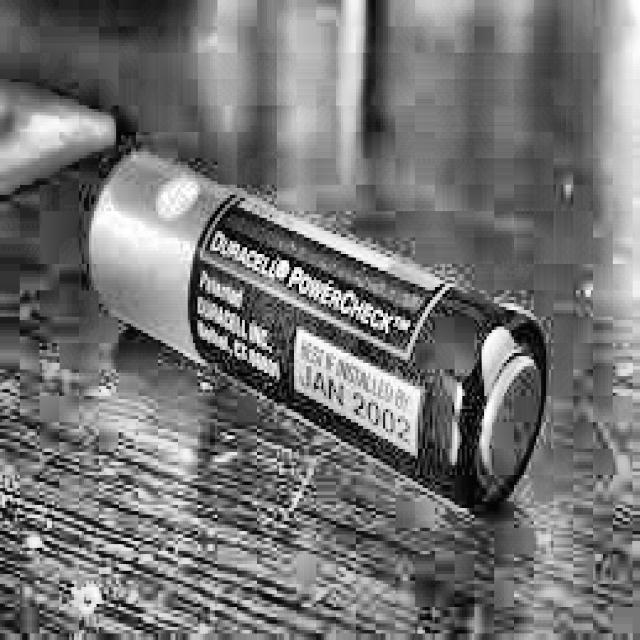Battery: (94, 155, 546, 515)
